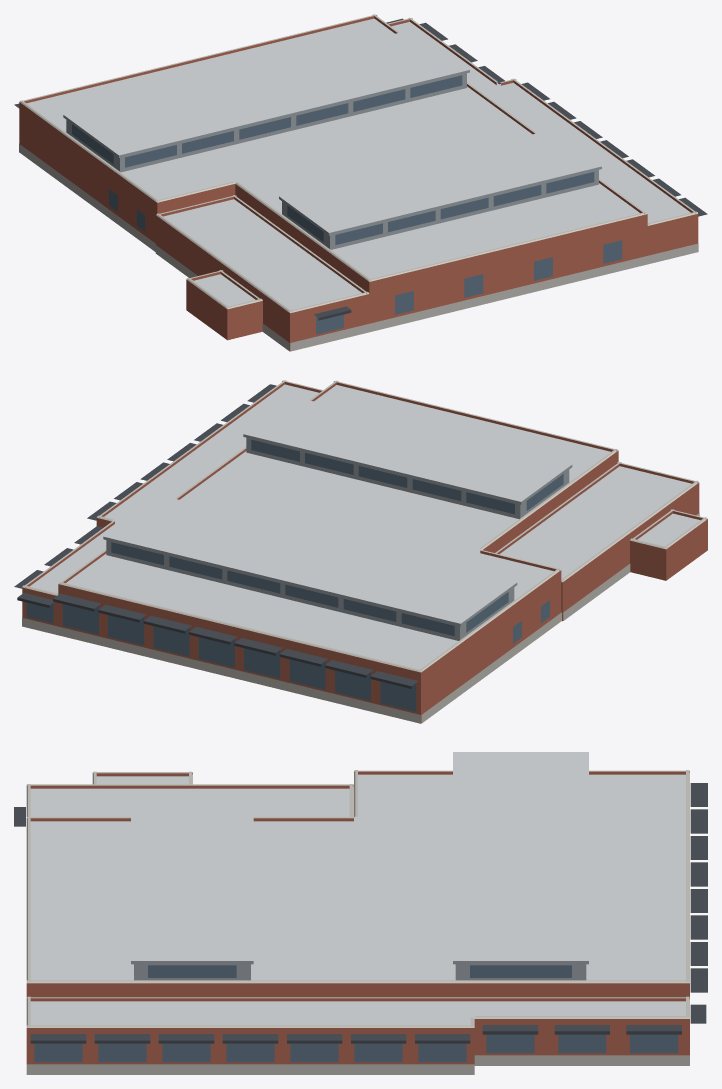
File: clt-cne-301-camp-road.glb
3 renders of one model, top to bottom at view 1: azimuth 30°, elevation 25°; view 2: azimuth 150°, elevation 25°; view 3: azimuth 270°, elevation 25°, orthographic. The views are drawn at different scales.
Visible parts, largest first — view 1: 301 Camp Road, Camp North End; view 2: 301 Camp Road, Camp North End; view 3: 301 Camp Road, Camp North End.
Boxes of the visible parts, box(x1,y1,x2,y2) form: 301 Camp Road, Camp North End: box(14, 14, 707, 351); 301 Camp Road, Camp North End: box(14, 380, 707, 723); 301 Camp Road, Camp North End: box(14, 752, 707, 1074).
Size of the model in its own units: 71.7 by 10.1 by 77.6.
